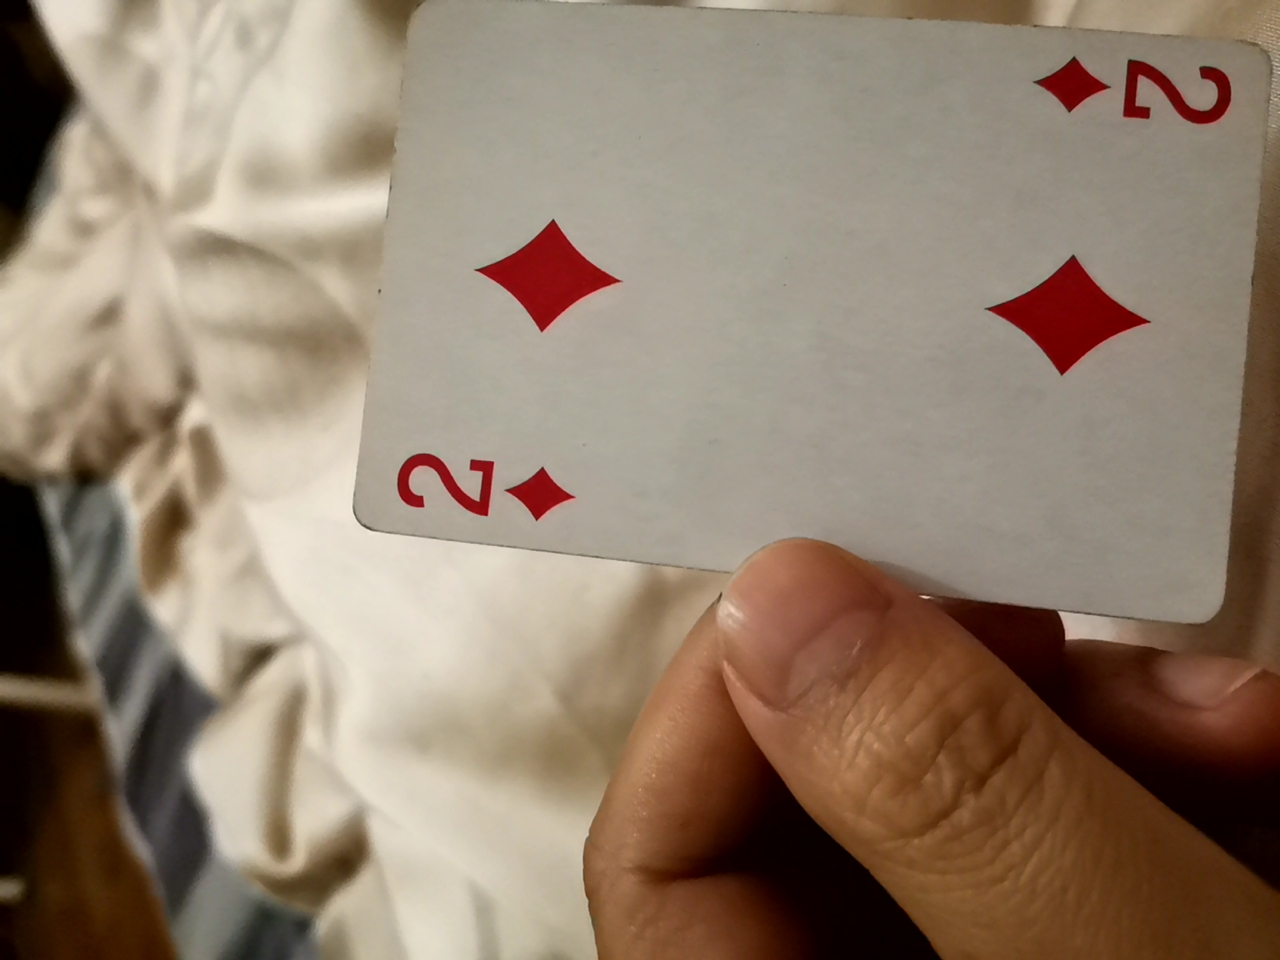fk 2: (280, 10, 1258, 690)
